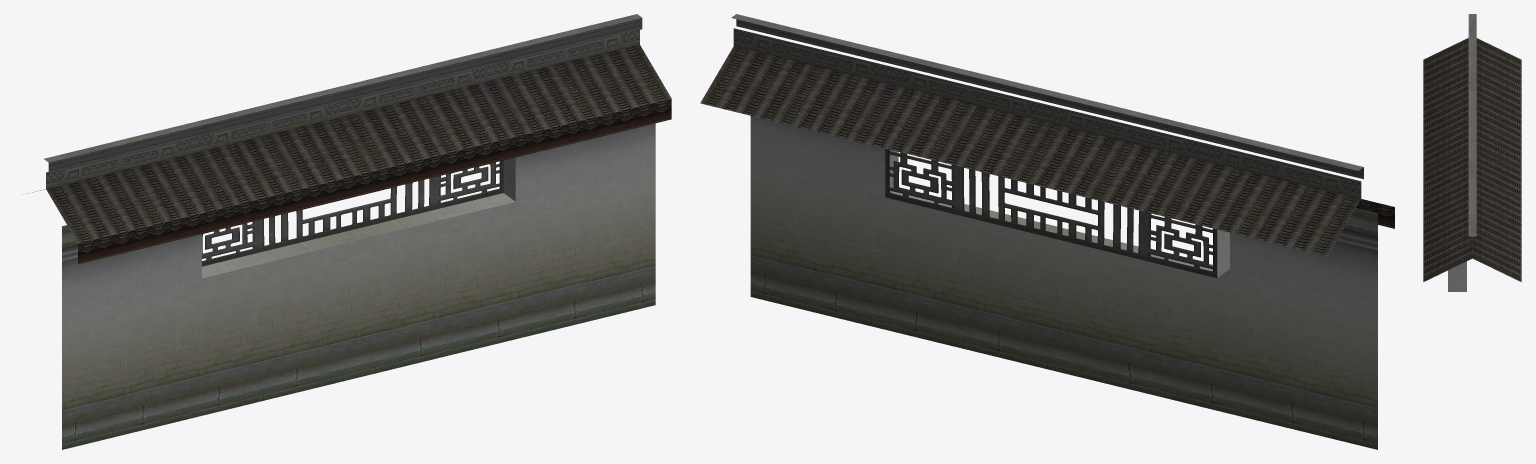
Rendered from zc_suzhou_qiang01.FBX.
3 views of the same model, side by side, from view 1: azimuth 30°, elevation 25°; view 2: azimuth 150°, elevation 25°; view 3: azimuth 270°, elevation 25° (orthographic). The views are drawn at different scales.
Visible parts, largest first — view 1: zc_suzhou_qiang01; view 2: zc_suzhou_qiang01; view 3: zc_suzhou_qiang01.
Part boxes in pixels (left/top/right/bottom): zc_suzhou_qiang01: left=26, top=14, right=671, bottom=449; zc_suzhou_qiang01: left=700, top=14, right=1394, bottom=449; zc_suzhou_qiang01: left=1423, top=14, right=1521, bottom=291.
Size of the model in its own units: 755 by 337 by 141.
Materials: 2 (2 with a texture image).
